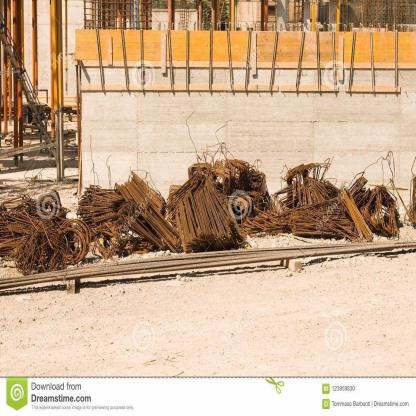rebar: (0, 155, 403, 275)
